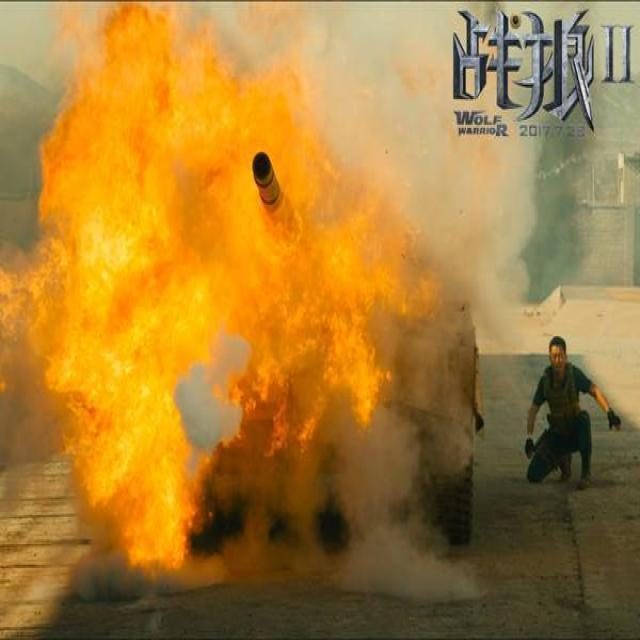fire: (1, 2, 440, 578)
